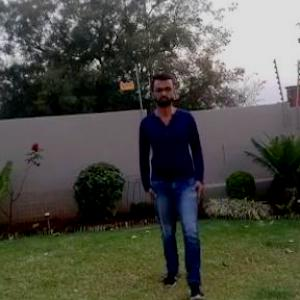follow: (148, 78, 204, 286)
